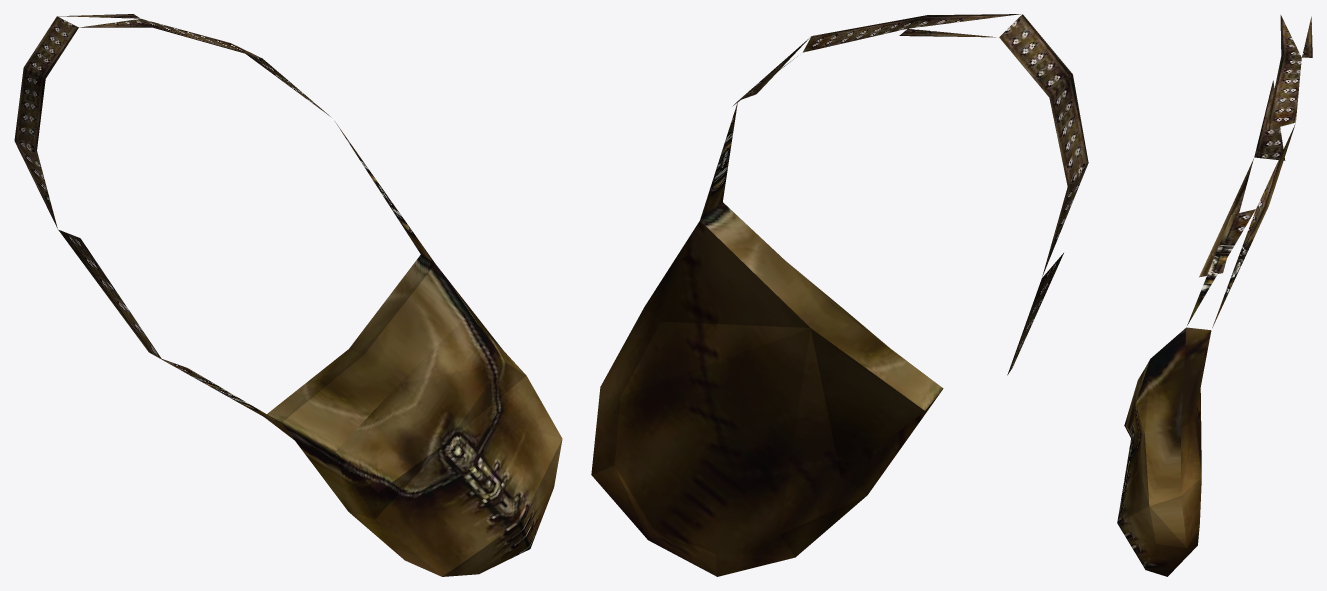
Rendered from STATIC_TORBAMAX.glb.
3 renders of one model, left to right at view 1: azimuth 30°, elevation 25°; view 2: azimuth 150°, elevation 25°; view 3: azimuth 270°, elevation 25°, orthographic. The views are drawn at different scales.
Parts seen in each view (by area): view 1: STATIC_TORBAMAX; view 2: STATIC_TORBAMAX; view 3: STATIC_TORBAMAX.
Part boxes in pixels (box(x1,y1,x2,y2)): STATIC_TORBAMAX: box(14, 14, 562, 576); STATIC_TORBAMAX: box(591, 14, 1088, 576); STATIC_TORBAMAX: box(1117, 15, 1312, 576).
Bounding box in the file's own units: 0.6324 × 0.7662 × 0.311.
1 material, 1 textured.
